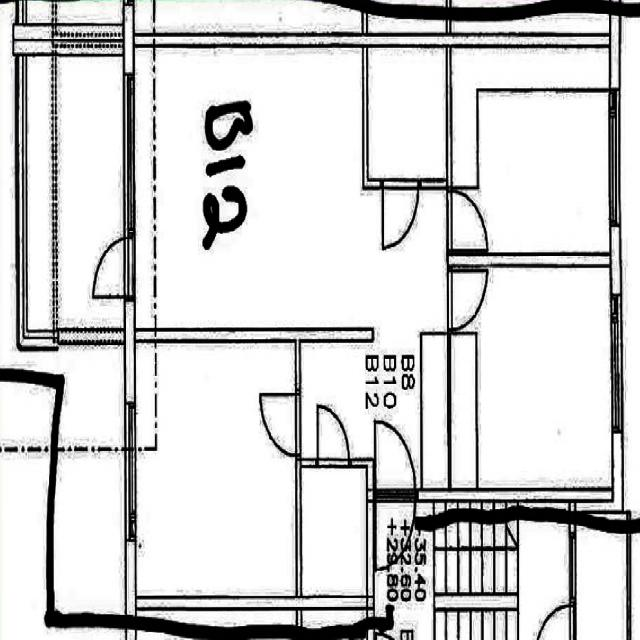door: (376, 421, 414, 501), (376, 489, 414, 567), (259, 394, 301, 456), (383, 180, 419, 249), (92, 238, 135, 295), (446, 270, 486, 330), (447, 192, 485, 249), (318, 407, 348, 467)
